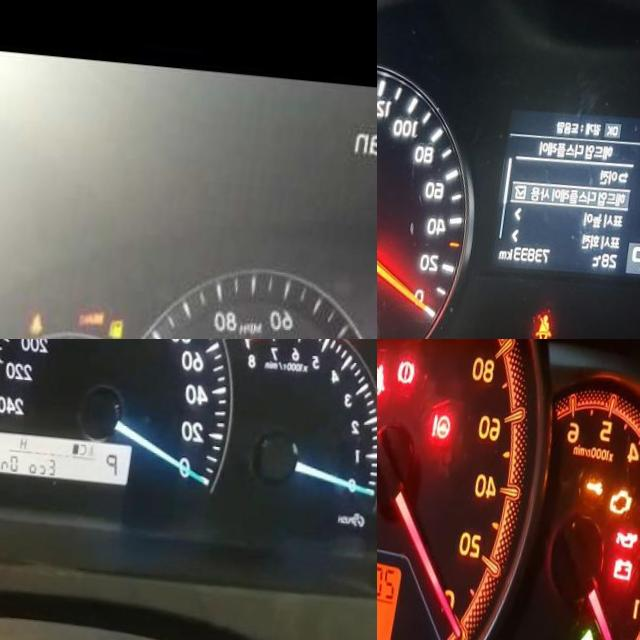Seat Belt: (40, 310, 53, 333)
